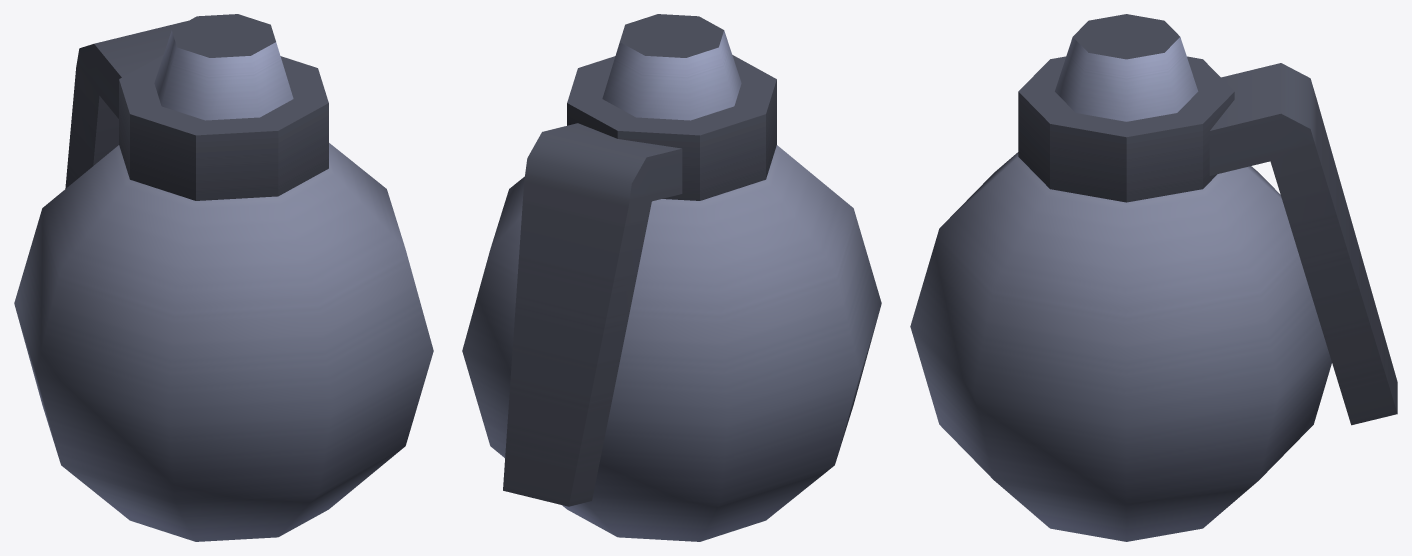
Rendered from grenade-b.glb.
3 views of the same model, side by side, from view 1: azimuth 30°, elevation 25°; view 2: azimuth 150°, elevation 25°; view 3: azimuth 270°, elevation 25° (orthographic).
Visible parts, largest first — view 1: grenade-b; view 2: grenade-b; view 3: grenade-b.
Boxes of the visible parts, <box> form: grenade-b: <box>14,14,433,541</box>; grenade-b: <box>462,14,881,541</box>; grenade-b: <box>910,14,1397,541</box>.
Size of the model in its own units: 0.18 by 0.2111 by 0.2029.
1 material, 1 textured.
